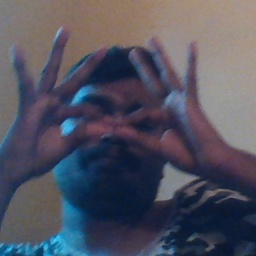B: (44, 67, 177, 166)
